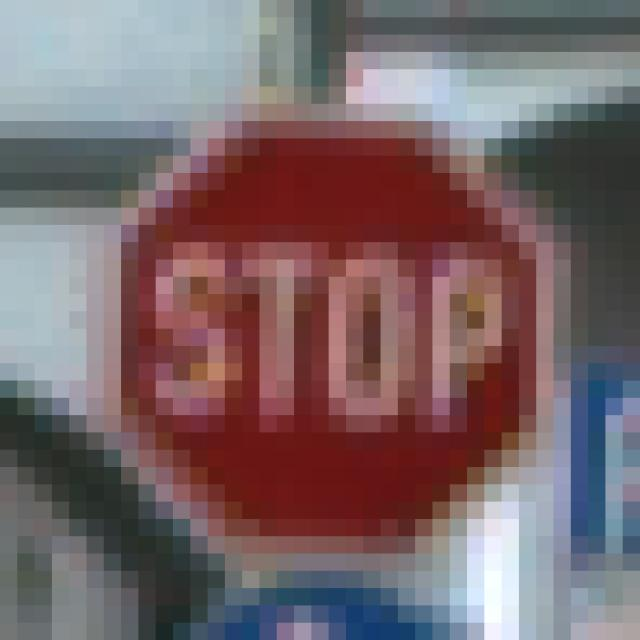STOP: (88, 88, 555, 537)
